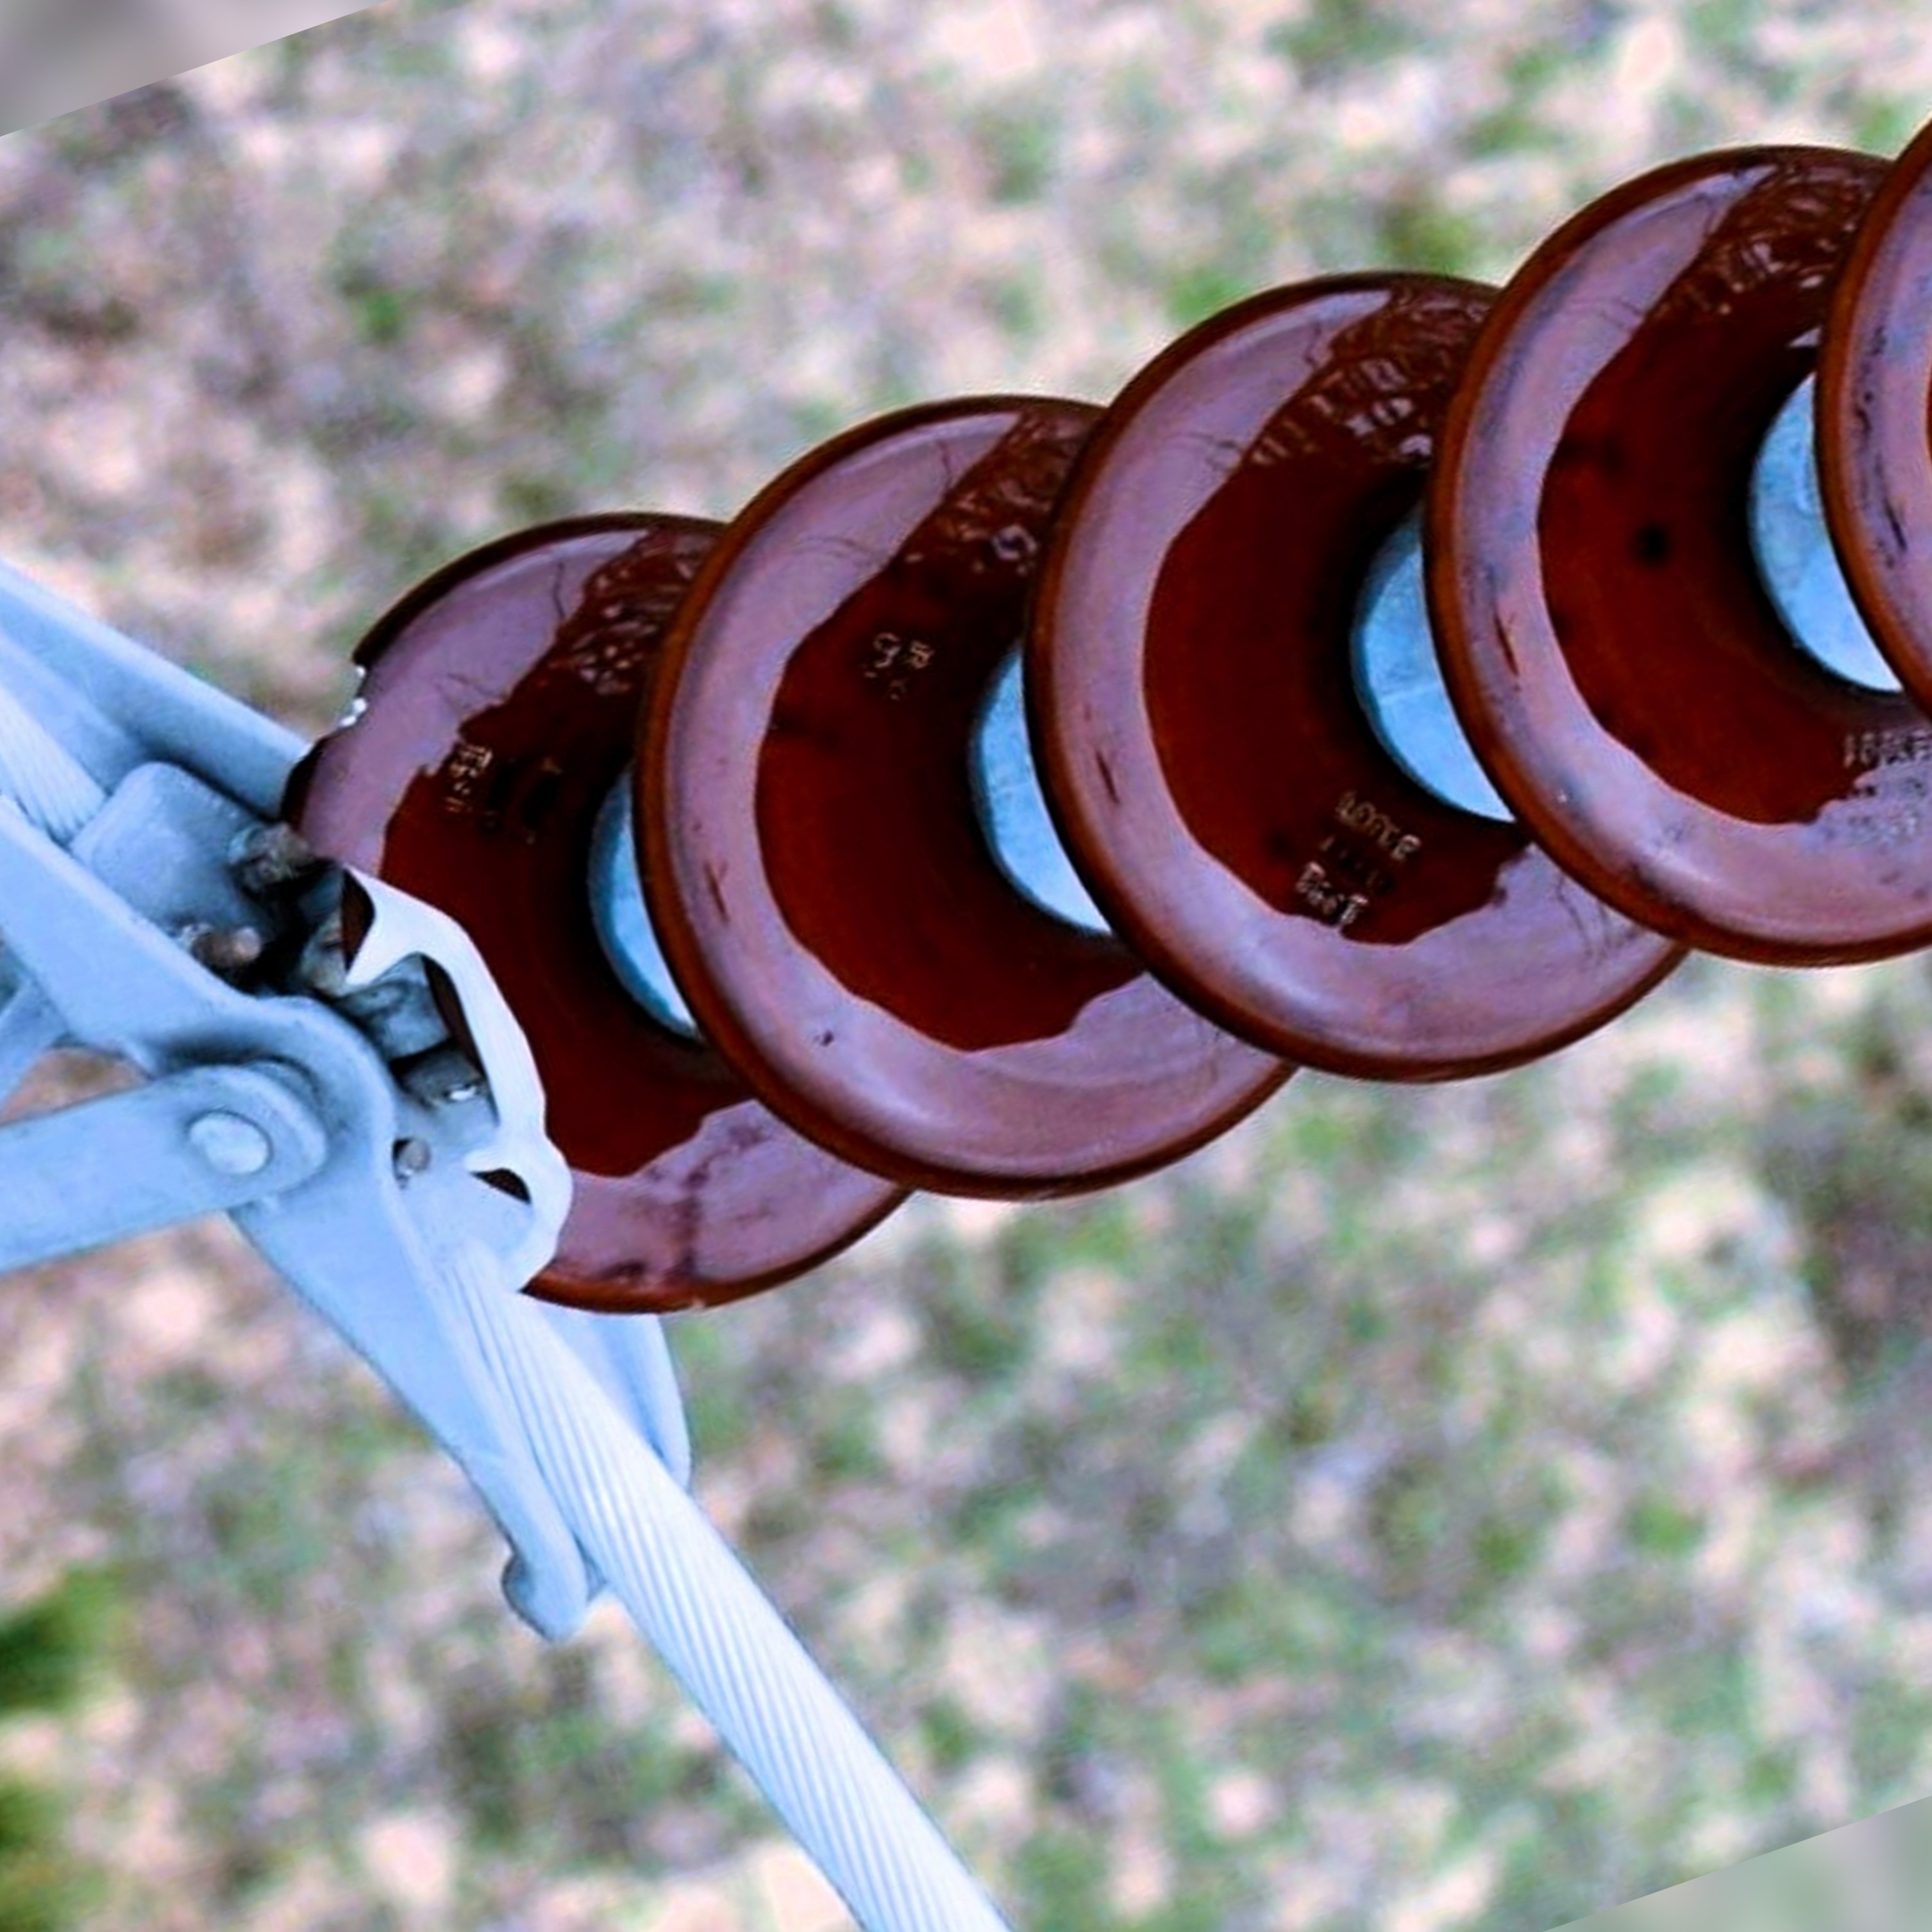insulator breakage: (271, 478, 897, 1346)
